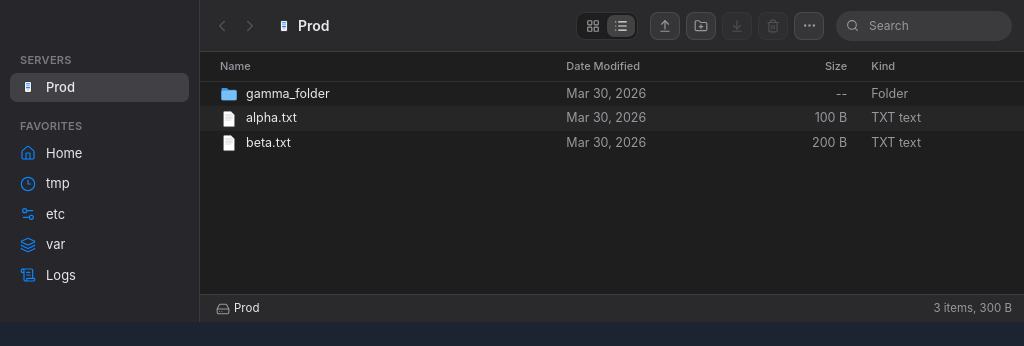
Test: FilesApp multi-select › selects multiple items and shows item count in toolbar and status bar
The image size is (1024, 346).
Expected: the text "alpha.txt" is shown, x1=246 y1=109 x2=297 y2=128
Press the mouse on the text "alpha.txt" at {"x": 612, "y": 119}, box x1=200 y1=106 x2=1023 y2=131
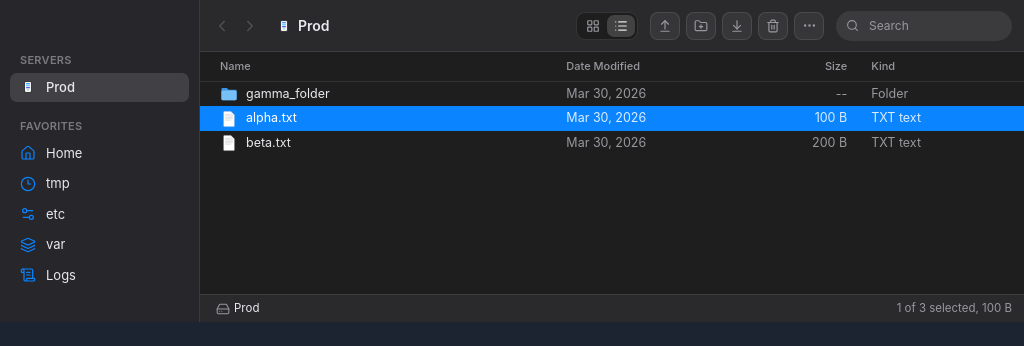
Expected: the text "1 of 3 selected, 100 B" is shown, x1=897 y1=300 x2=1012 y2=317
Press the mouse on the text "beta.txt" at {"x": 612, "y": 143}, box x1=200 y1=131 x2=1023 y2=156
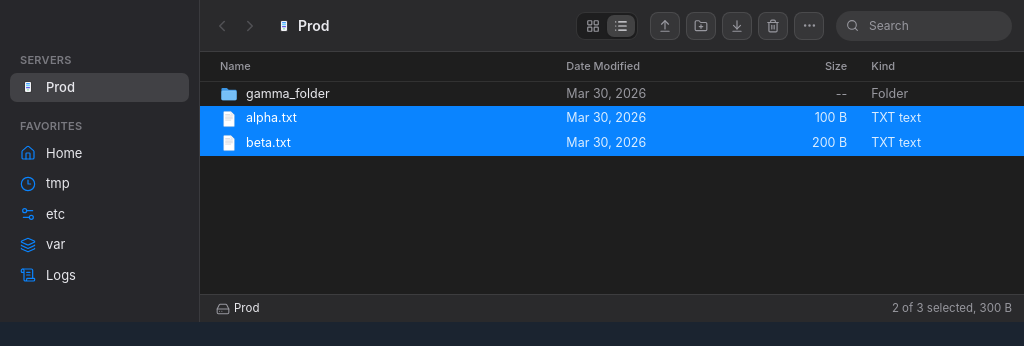
Expected: the text "2 of 3 selected, 300 B" is shown, x1=892 y1=300 x2=1012 y2=317
Click the button named "More actions". click: {"x": 809, "y": 26}
box: x1=794 y1=12 x2=824 y2=40
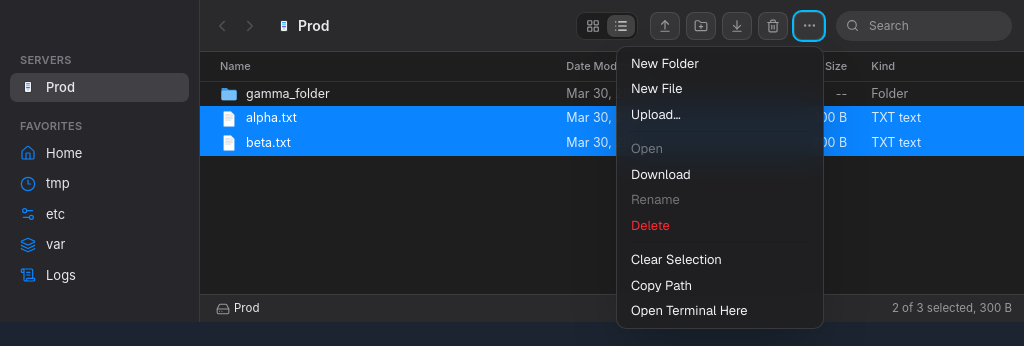
Click the menu item "Clear Selection". click: {"x": 720, "y": 260}
box: x1=621 y1=247 x2=819 y2=272
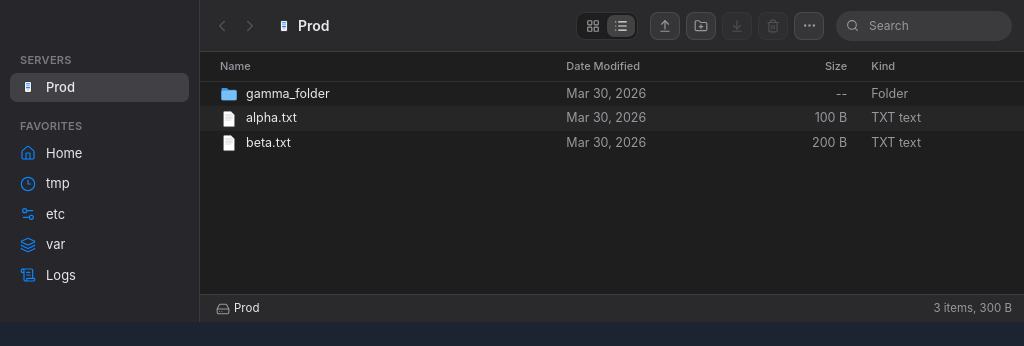
Expected: the text "2 of 3 selected" is gone
